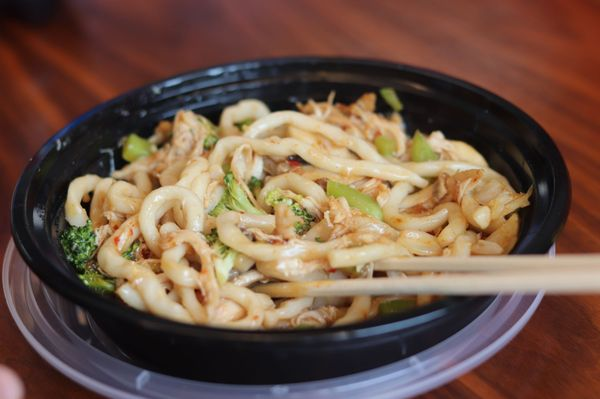curry: (206, 171, 274, 218), (57, 222, 98, 273)
sushi: (4, 37, 585, 397)
